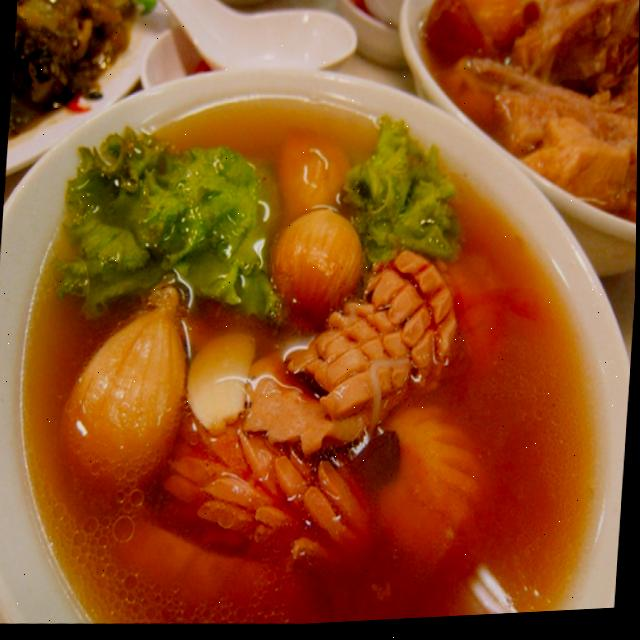汤锅炖物: (0, 45, 639, 640)
